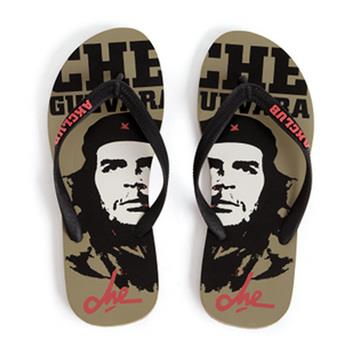Che_Guevara: (90, 116, 155, 219)
